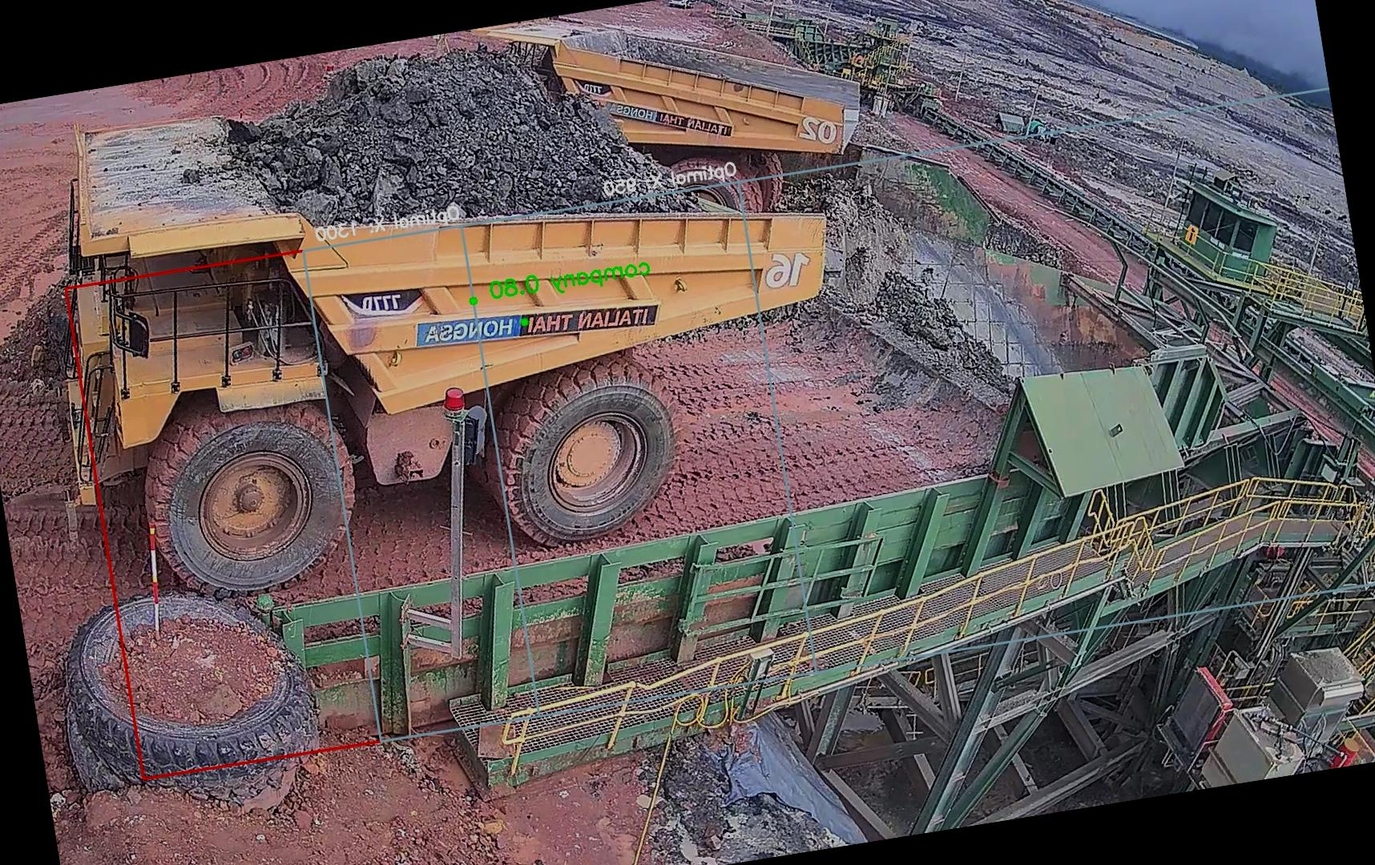company: (401, 278, 680, 366)
full_load: (252, 17, 617, 278)
mining_truck: (0, 0, 874, 622)
tail_number: (746, 234, 822, 306)
truck_size: (334, 276, 429, 324)
